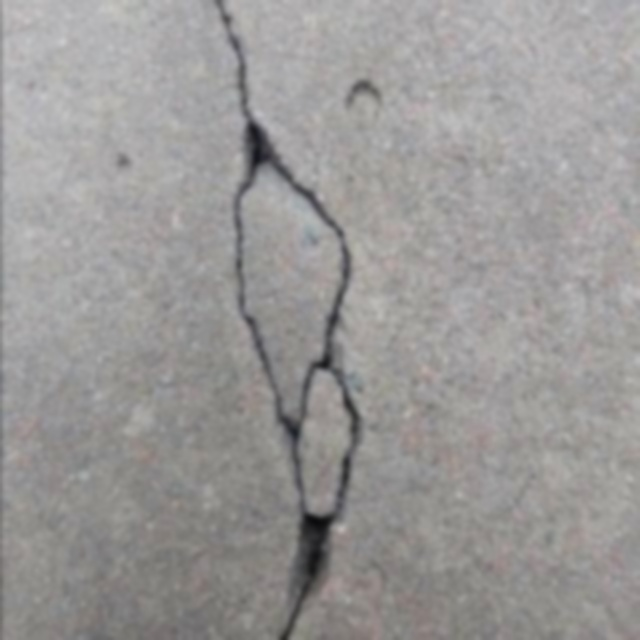SurfaceCrack: (156, 0, 414, 640)
